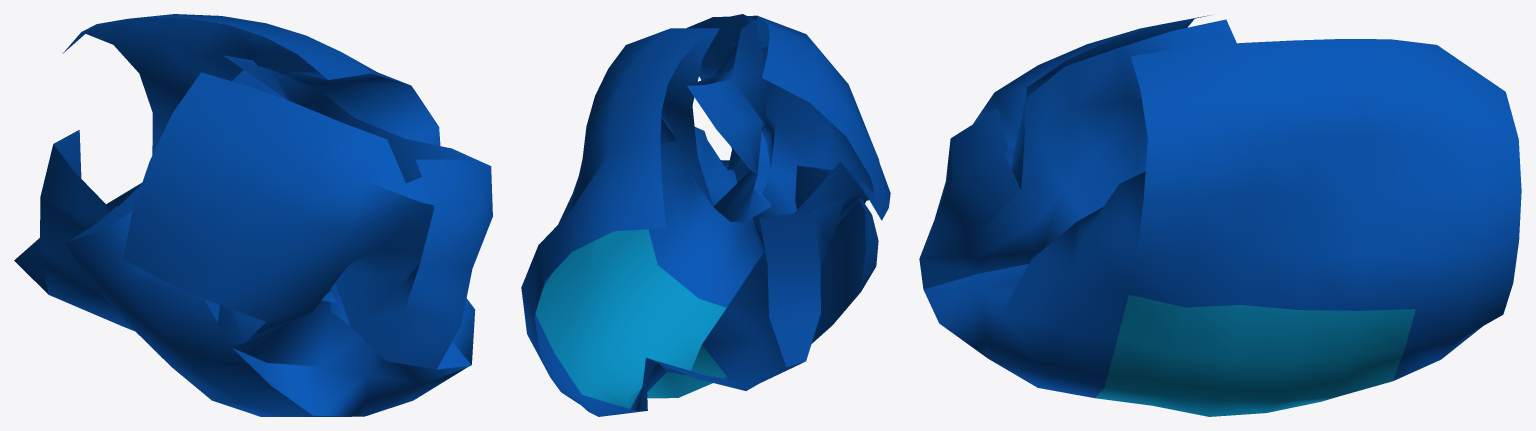
File: CandyWrapper004.glb
3 views of the same model, side by side, from view 1: azimuth 30°, elevation 25°; view 2: azimuth 150°, elevation 25°; view 3: azimuth 270°, elevation 25° (orthographic). The views are drawn at different scales.
Parts seen in each view (by area): view 1: CandyWrapper004; view 2: CandyWrapper004; view 3: CandyWrapper004.
Boxes of the visible parts, left/top/right/bottom form: CandyWrapper004: left=14, top=14, right=492, bottom=416; CandyWrapper004: left=521, top=14, right=890, bottom=416; CandyWrapper004: left=919, top=14, right=1521, bottom=416.
Bounding box in the file's own units: 0.1937 × 0.1964 × 0.2968.
